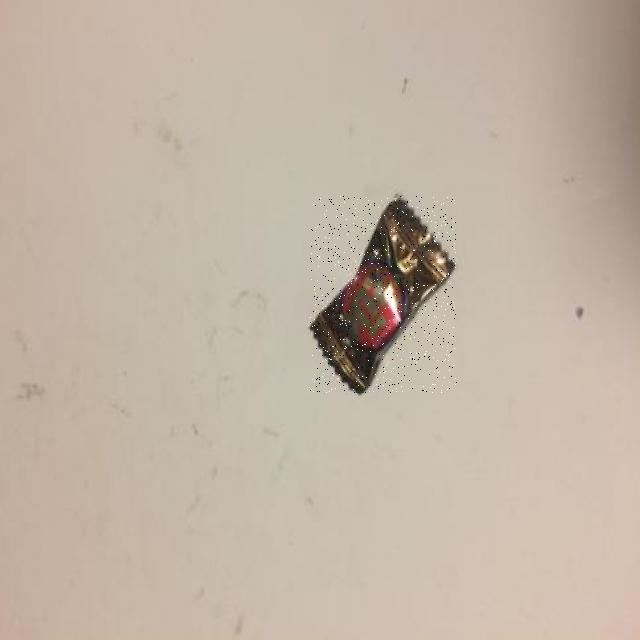wrapper: (310, 196, 457, 392)
